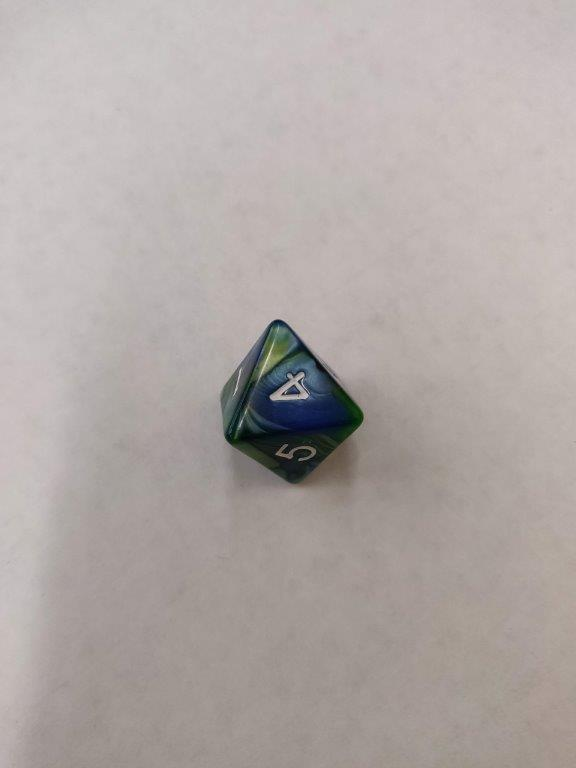d8-4: (219, 317, 366, 483)
